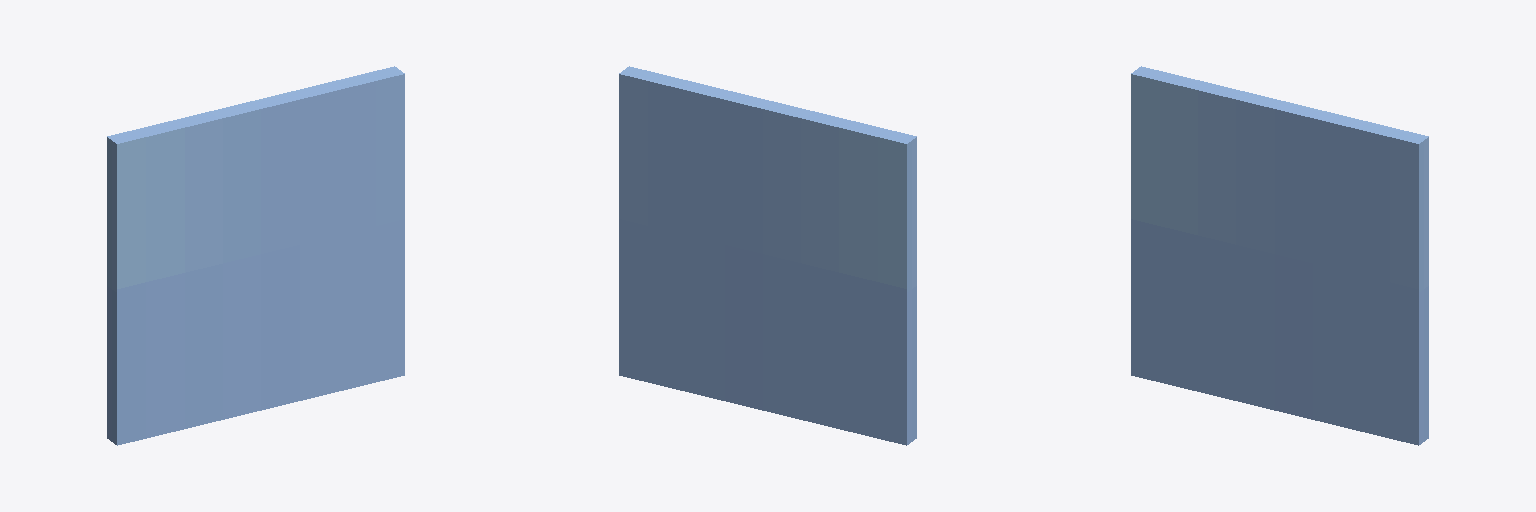
3 views of the same model, side by side, from view 1: azimuth 30°, elevation 25°; view 2: azimuth 150°, elevation 25°; view 3: azimuth 330°, elevation 25° (orthographic).
Parts seen in each view (by area): view 1: Back, Right, Top; view 2: Front, Right, Top; view 3: Back, Left, Top.
Boxes of the visible parts, x1=… form: Back: x1=117, y1=74, x2=404, y2=445; Right: x1=107, y1=137, x2=116, y2=444; Top: x1=107, y1=66, x2=404, y2=143; Front: x1=619, y1=74, x2=906, y2=445; Right: x1=907, y1=137, x2=916, y2=444; Top: x1=619, y1=66, x2=916, y2=143; Back: x1=1131, y1=74, x2=1418, y2=445; Left: x1=1419, y1=137, x2=1428, y2=444; Top: x1=1131, y1=66, x2=1428, y2=143.
Bounding box in the file's own units: 1 × 1 × 0.0625.
1 materials, 1 textured.